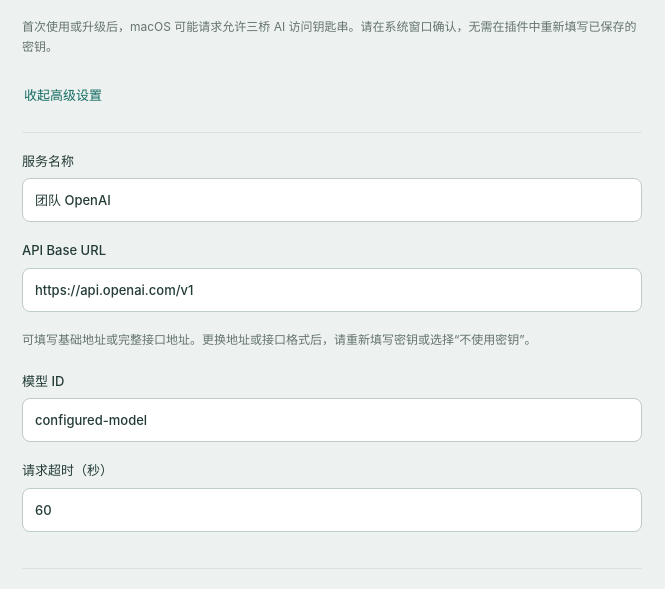
Test: shared model settings › cannot carry an existing credential to a changed service URL
The image size is (665, 589).
(page scrolled)
Clear the field labelled "API Base URL" at (332, 290), box [22,268,642,312]
(page scrolled)
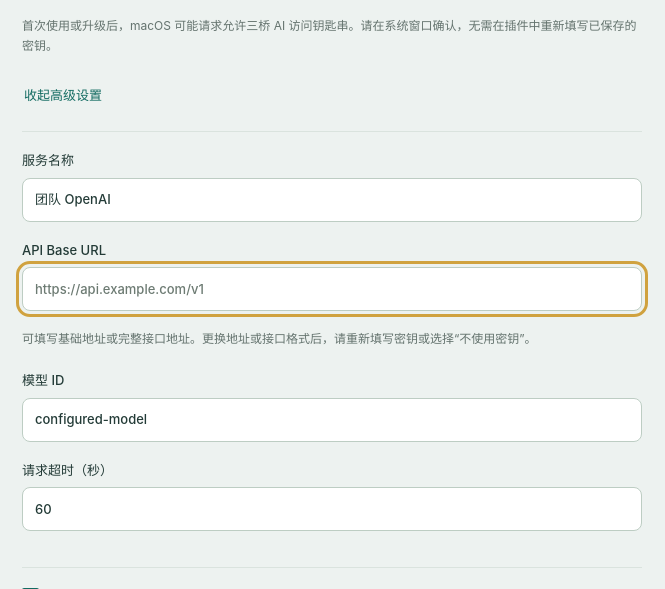
Type "https://different.example/v1" into the field labelled "API Base URL" at (332, 289), box [22,267,642,311]
(page scrolled)
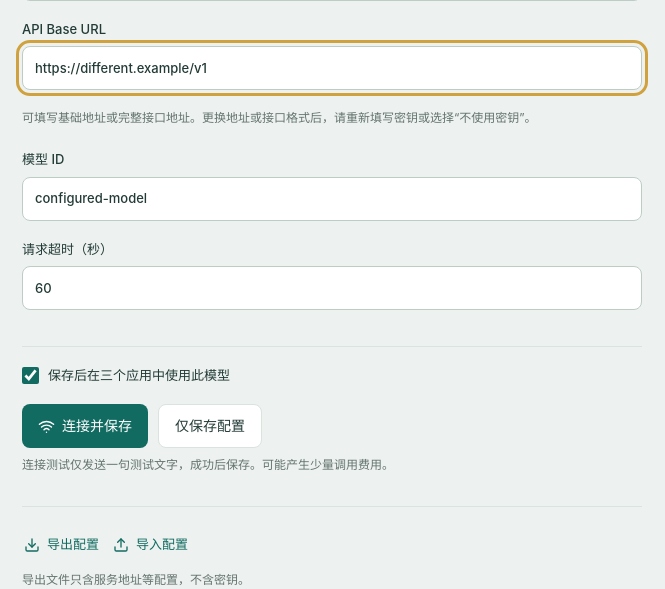
Check: the option "保留已保存的密钥" is not shown
Click the button "仅保存配置" at (210, 426), box [158,404,262,448]
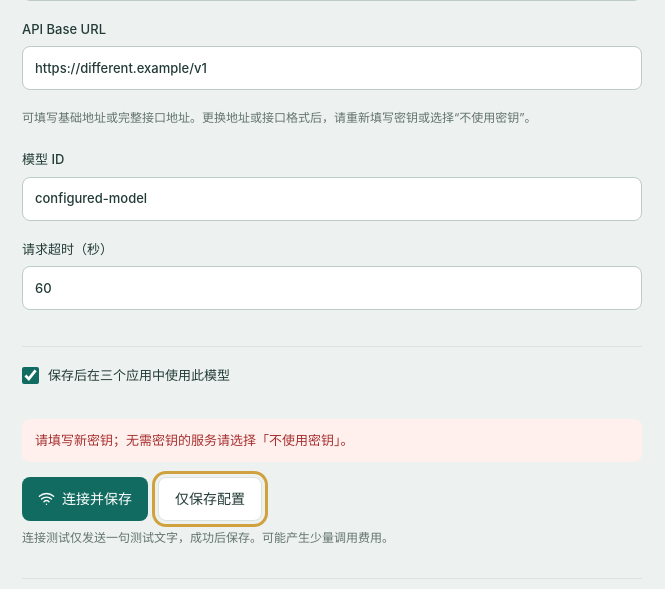
Check: the message shows "请填写新密钥", box [35,432,354,448]
